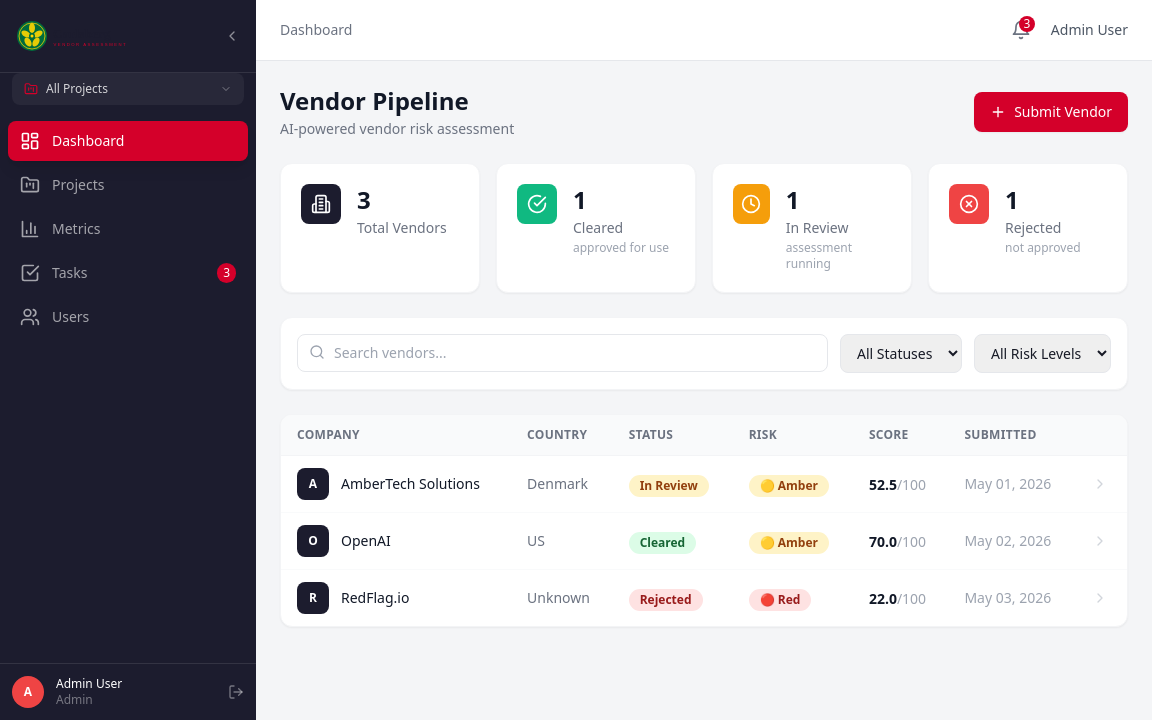
Scenario: DashboardPage › opens submit vendor modal on button click
Click the button "Submit Vendor" at (1051, 112), box x1=974 y1=92 x2=1128 y2=132
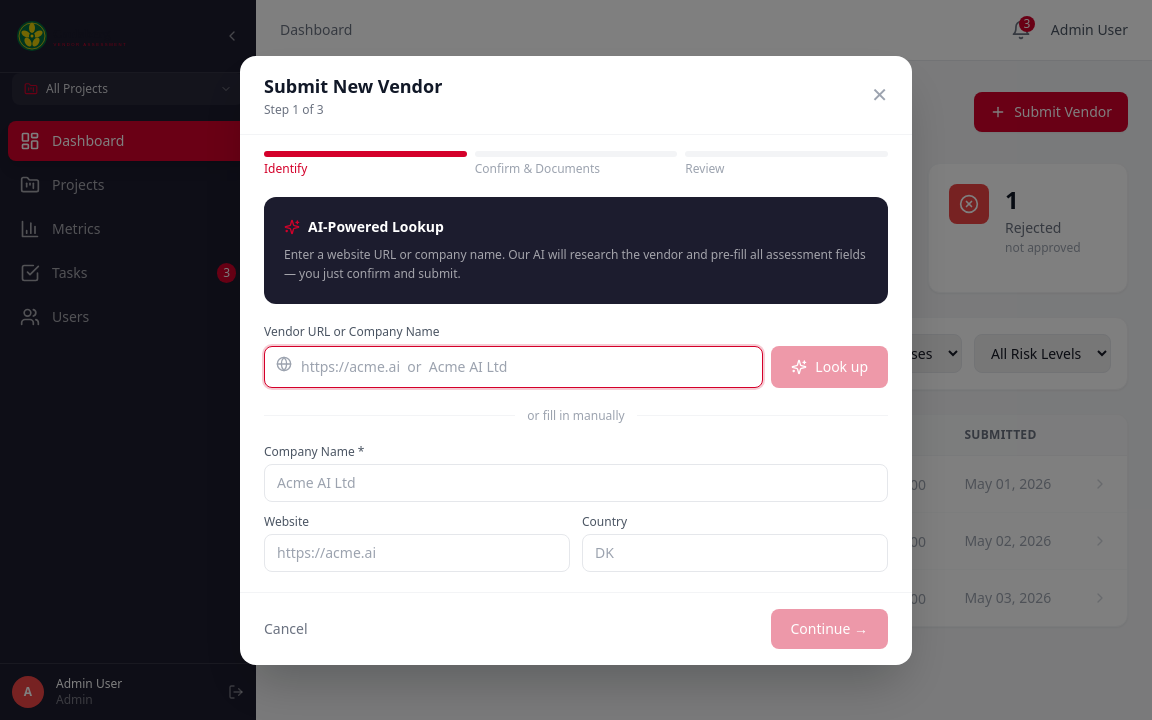
Now the heading "Submit New Vendor" is shown, box x1=264 y1=72 x2=442 y2=100
Now the text "Step 1 of 3" is shown, box x1=264 y1=100 x2=324 y2=118
